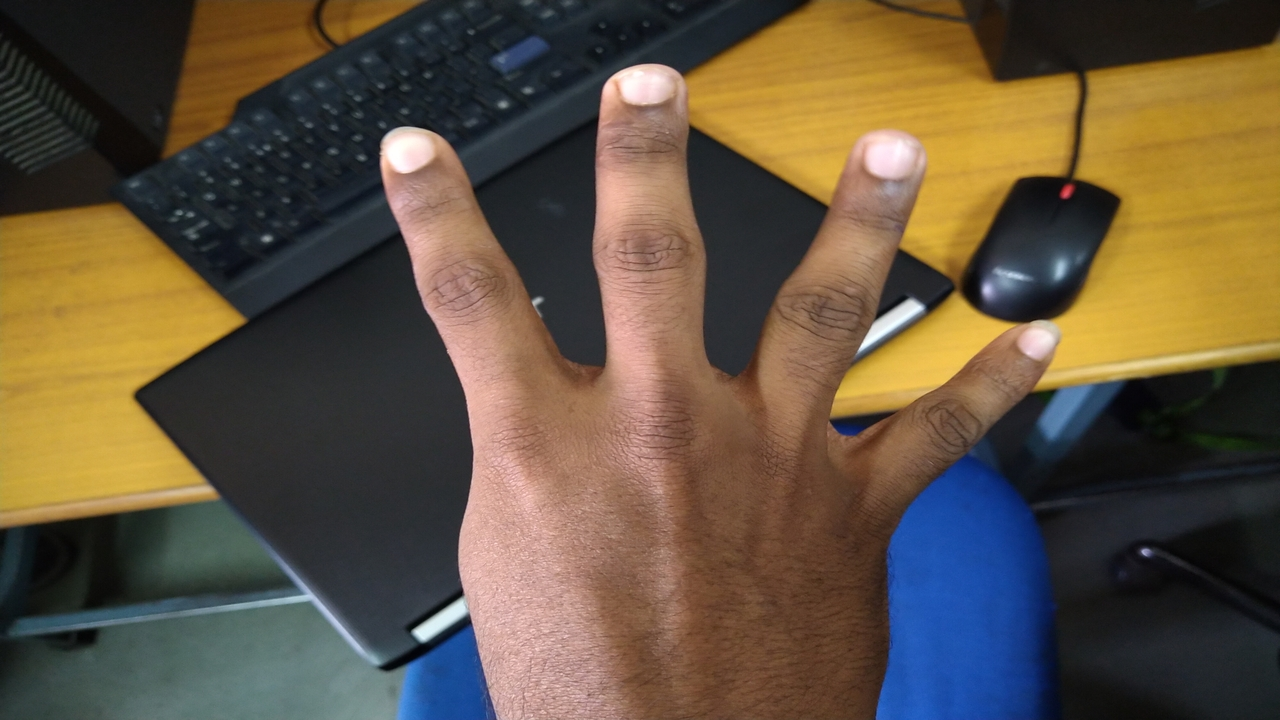fingertip: (592, 58, 692, 132), (366, 122, 452, 198), (846, 128, 936, 198), (1016, 318, 1068, 370)
